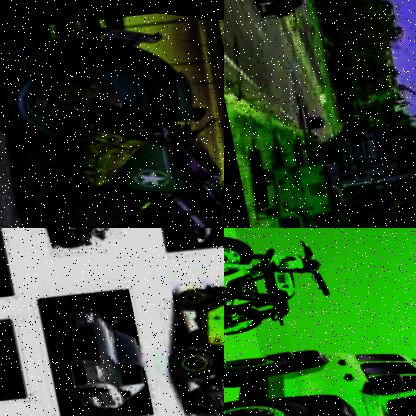bike: (224, 228, 334, 352)
car: (224, 298, 416, 416), (51, 284, 153, 416), (164, 260, 224, 416), (25, 228, 136, 255), (245, 0, 306, 26), (0, 310, 16, 402)
